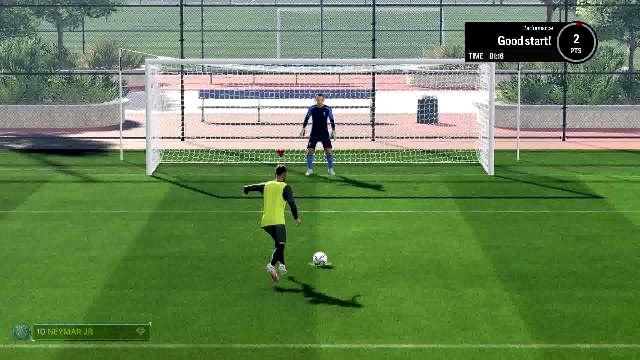bottom-left: (152, 129, 258, 177)
bottom-right: (377, 122, 485, 176)
center-down: (262, 123, 372, 177)
center-up: (262, 64, 372, 122)
football: (312, 250, 330, 264)
goalkeeper: (300, 92, 344, 178)
player: (238, 171, 298, 291)
top-left: (152, 65, 258, 127)
top-right: (372, 66, 483, 121)
